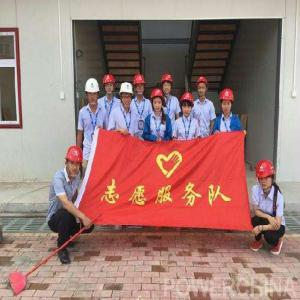red: (256, 159, 276, 193), (66, 146, 84, 176), (180, 91, 196, 120), (220, 88, 236, 116), (133, 74, 148, 99), (102, 73, 117, 97), (196, 75, 209, 100), (152, 88, 164, 114), (163, 75, 174, 96)
white: (85, 78, 102, 107), (119, 83, 134, 109)
